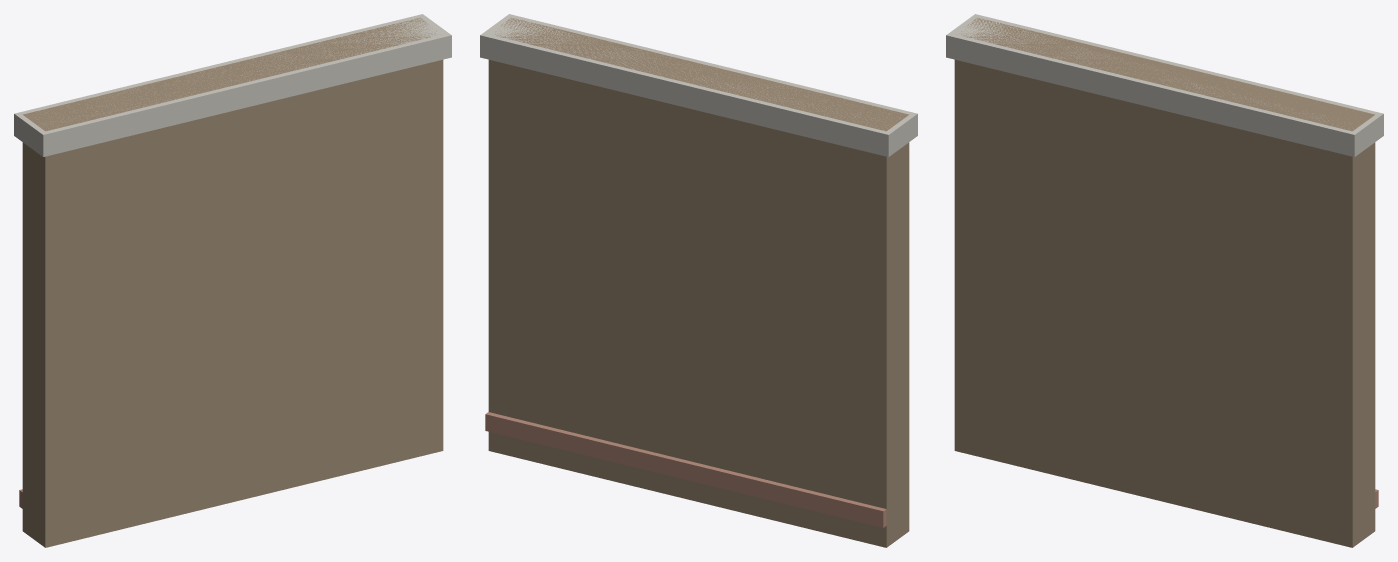
File: iz3_neighborhood_cephe_ahşap.glb
3 views of the same model, side by side, from view 1: azimuth 30°, elevation 25°; view 2: azimuth 150°, elevation 25°; view 3: azimuth 330°, elevation 25° (orthographic).
Visible parts, largest first — view 1: wall, cornice; view 2: wall, cornice, sill; view 3: wall, cornice.
Part boxes in pixels (x1,y1,x2,y2): wall: [22, 17, 443, 547]; cornice: [14, 14, 451, 156]; wall: [488, 17, 909, 547]; cornice: [480, 14, 917, 156]; sill: [485, 412, 886, 527]; wall: [954, 17, 1375, 547]; cornice: [946, 14, 1383, 156].
Size of the model in its own units: 3.08 by 3 by 0.38.
